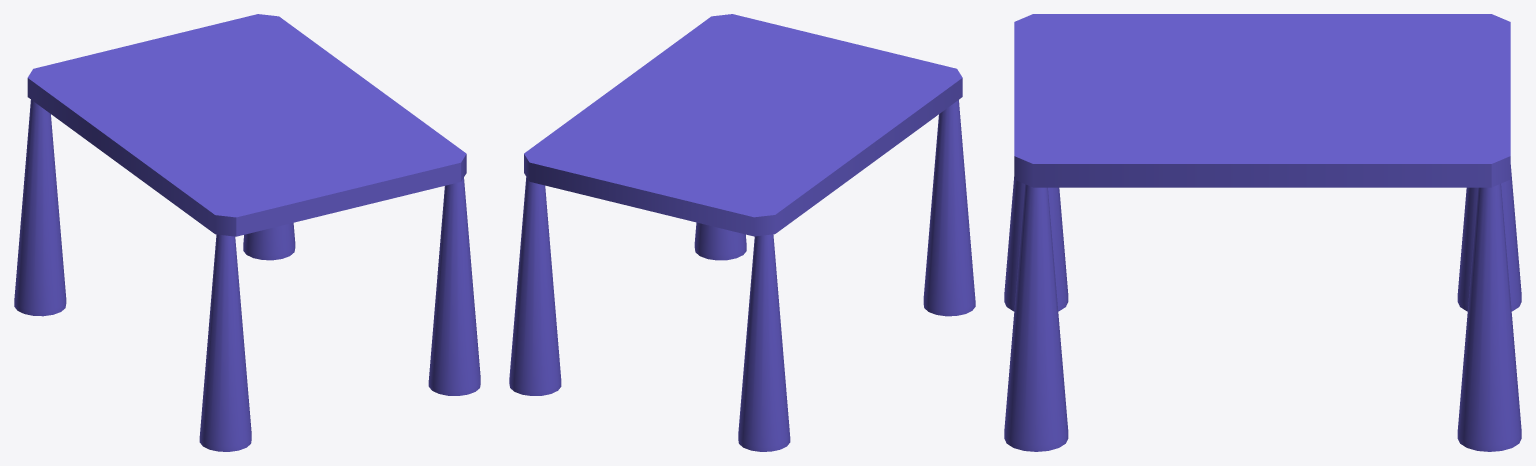
File: Table_manger.fbx
The picture shows the model from 3 angles, left to right: view 1: azimuth 30°, elevation 25°; view 2: azimuth 150°, elevation 25°; view 3: azimuth 270°, elevation 25°; orthographic projection. The views are drawn at different scales.
Parts seen in each view (by area): view 1: Table_manger; view 2: Table_manger; view 3: Table_manger.
Boxes of the visible parts, left/top/right/bottom form: Table_manger: left=14, top=14, right=480, bottom=451; Table_manger: left=509, top=14, right=975, bottom=451; Table_manger: left=1004, top=14, right=1521, bottom=451.
Size of the model in its own units: 59.98 by 47.98 by 80.15.
